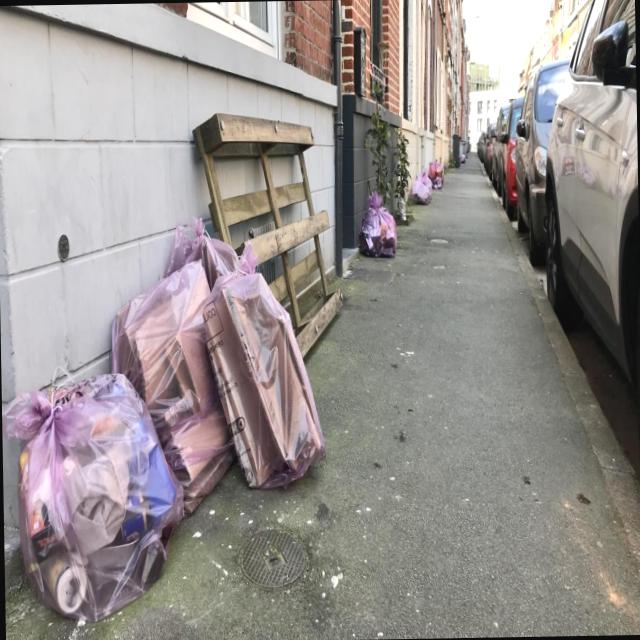garbage: (1, 210, 338, 628)
